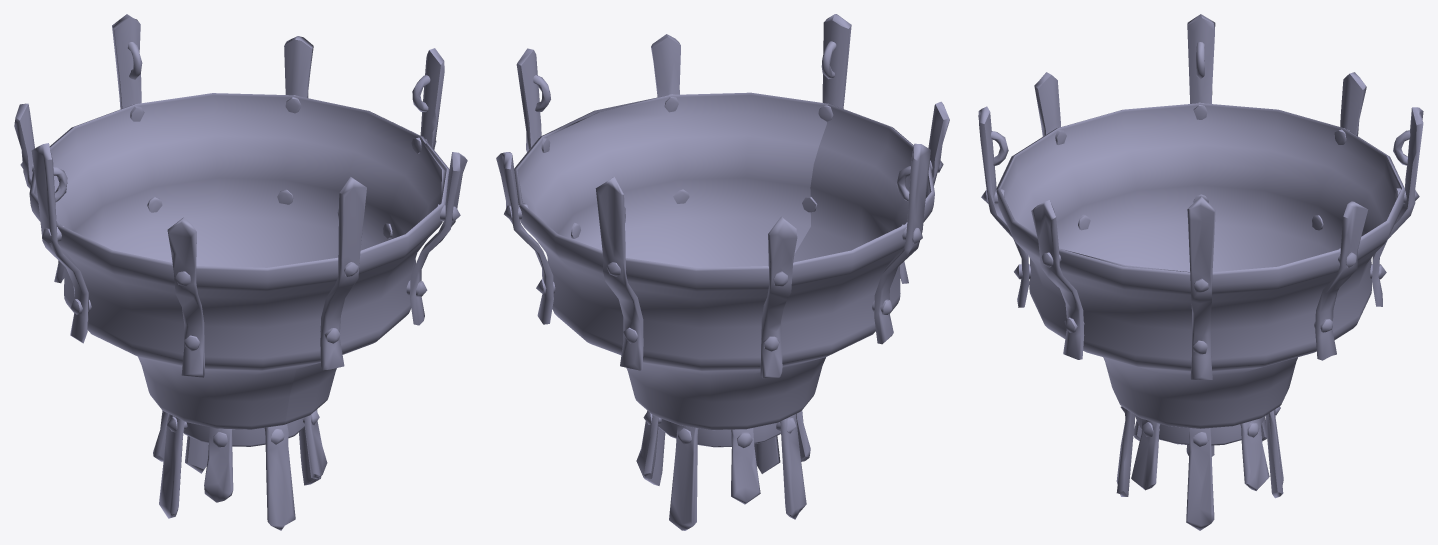
The model's file is Brazier_03.fbx.
3 renders of one model, left to right at view 1: azimuth 30°, elevation 25°; view 2: azimuth 150°, elevation 25°; view 3: azimuth 270°, elevation 25°, orthographic. The views are drawn at different scales.
Parts seen in each view (by area): view 1: Brazier_03_LOD0; view 2: Brazier_03_LOD0; view 3: Brazier_03_LOD0.
Boxes of the visible parts, box(x1,y1,x2,y2) form: Brazier_03_LOD0: box(14, 14, 467, 530); Brazier_03_LOD0: box(496, 14, 949, 530); Brazier_03_LOD0: box(978, 14, 1423, 530).
Size of what is drawn, in the model's own units: 110 by 106 by 109.
